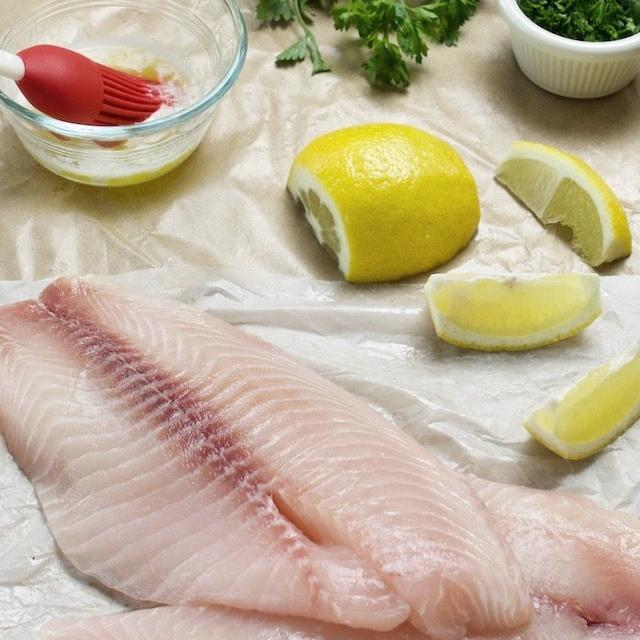fish: (0, 254, 539, 640)
